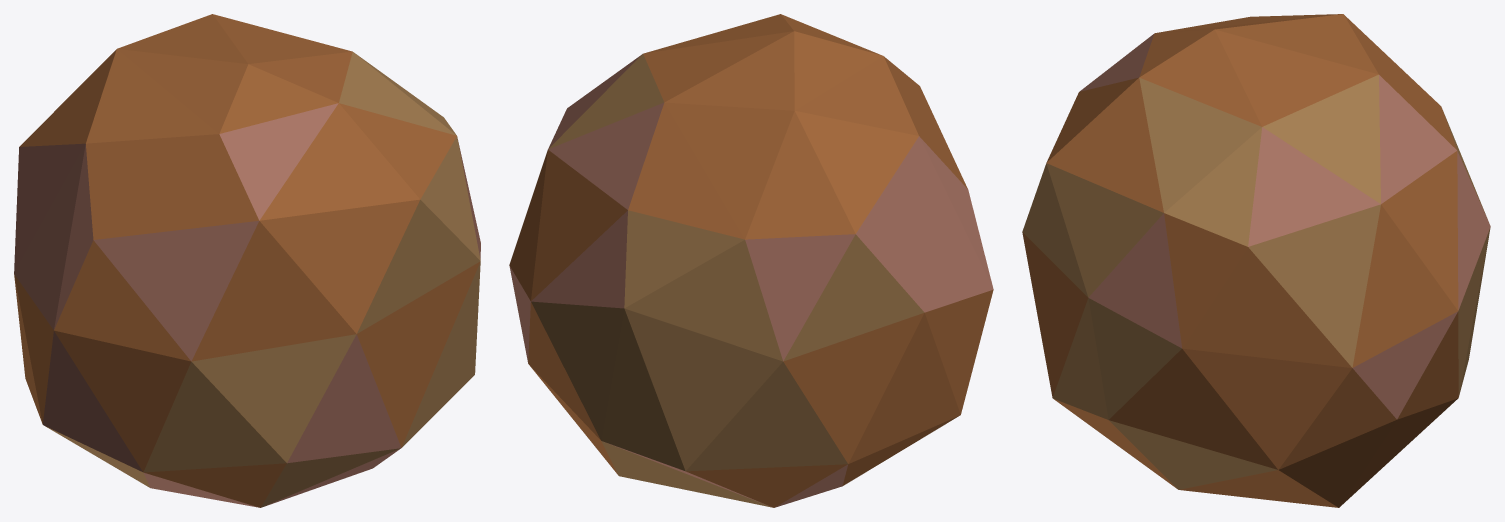
The model's file is Meteor.fbx.
3 renders of one model, left to right at view 1: azimuth 30°, elevation 25°; view 2: azimuth 150°, elevation 25°; view 3: azimuth 270°, elevation 25°, orthographic.
Visible parts, largest first — view 1: Icosphere; view 2: Icosphere; view 3: Icosphere.
Boxes of the visible parts, x1,y1,x2,y2 form: Icosphere: [14, 14, 480, 507]; Icosphere: [509, 14, 993, 507]; Icosphere: [1022, 14, 1490, 507].
Bounding box in the file's own units: 188 × 195 × 187.
